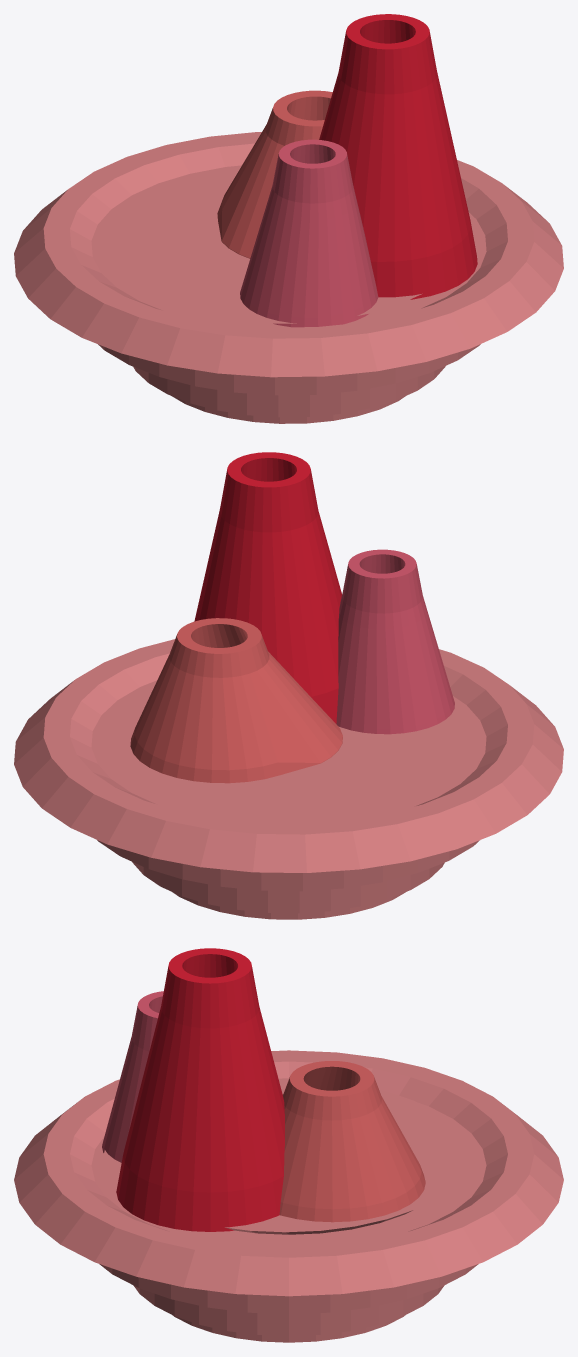
Rendered from red 2.fbx.
3 views of the same model, one above another, from view 1: azimuth 30°, elevation 25°; view 2: azimuth 150°, elevation 25°; view 3: azimuth 270°, elevation 25° (orthographic).
Visible parts, largest first — view 1: Cone, Cylinder, Cylinder.001, Cylinder.002; view 2: Cone, Cylinder.002, Cylinder, Cylinder.001; view 3: Cone, Cylinder, Cylinder.002, Cylinder.001.
Boxes of the visible parts, x1,y1,x2,y2 form: Cone: (14,132,563,423); Cylinder: (319,14,477,299); Cylinder.001: (240,139,378,327); Cylinder.002: (217,90,332,258); Cone: (14,639,563,919); Cylinder.002: (130,618,342,783); Cylinder: (194,452,342,723); Cylinder.001: (336,549,454,734); Cone: (14,1050,563,1342); Cylinder: (116,948,284,1231); Cylinder.002: (279,1061,425,1222); Cylinder.001: (102,991,163,1162).
Bounding box in the file's own units: 890 × 712 × 890.
